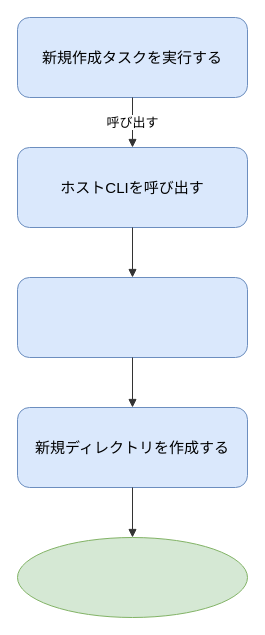
The diagram is 265 pixels wide and 635 high, and some of its shapes have lost their labels. Each missing label, with the centre of its shape:
論文ひな型を保存する: point 132,577
論文名と保存先を確認する: point 132,317
